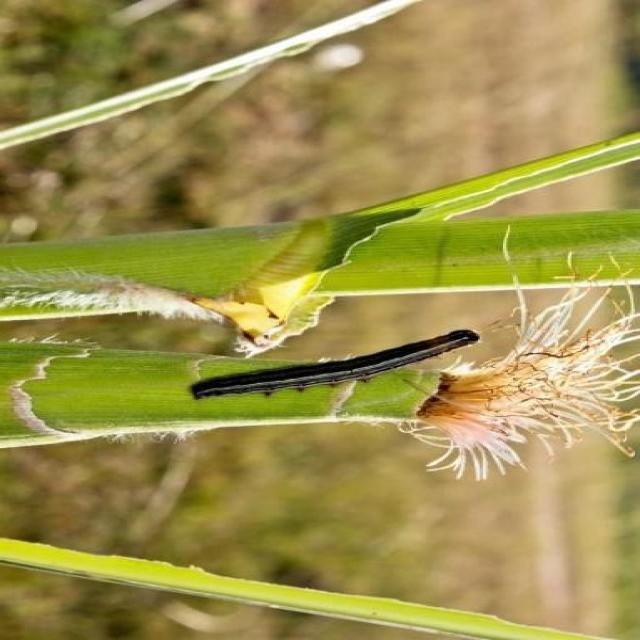army worm: (181, 329, 483, 405)
